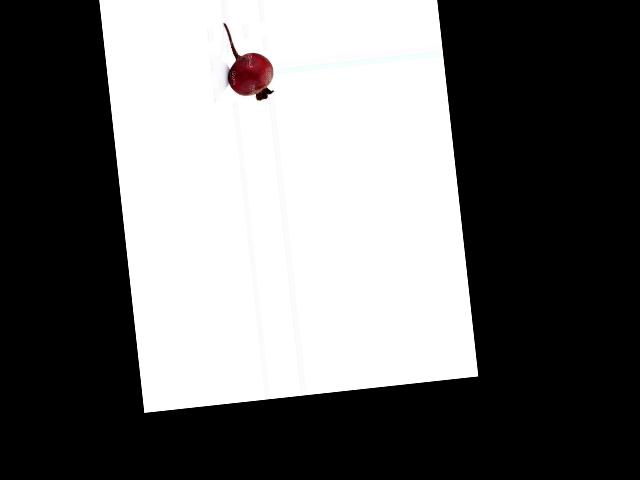beet: (222, 19, 275, 103)
